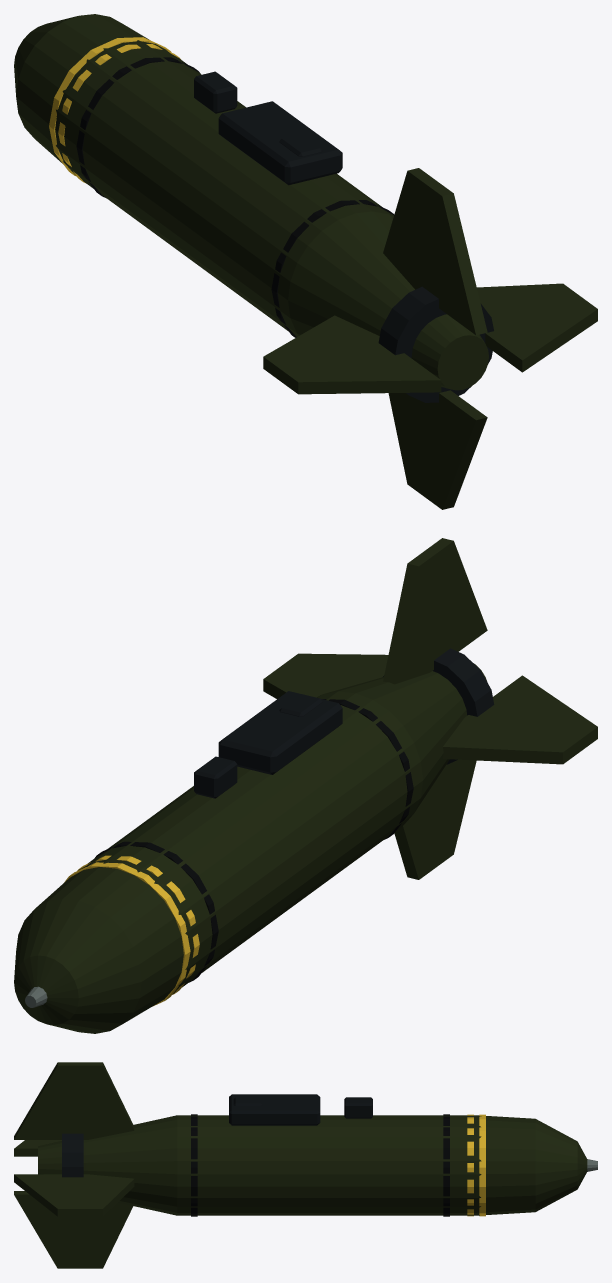
File: BombMedium.obj
3 views of the same model, one above another, from view 1: azimuth 30°, elevation 25°; view 2: azimuth 150°, elevation 25°; view 3: azimuth 270°, elevation 25° (orthographic). The views are drawn at different scales.
Visible parts, largest first — view 1: Bomb_forged_casing, Tail_stabilizer.001, Tail_stabilizer.002, Tail_stabilizer.003, Tail_stabilizer, Mount_lug, Tail_collar, Suspension_lug.001, Identification_band, Identification_band.003, Identification_band.002, Identification_band.001; view 2: Bomb_forged_casing, Tail_stabilizer.001, Tail_stabilizer.002, Mount_lug, Tail_stabilizer.003, Tail_stabilizer, Tail_collar, Suspension_lug.001, Identification_band, Identification_band.003, Identification_band.002, Identification_band.001; view 3: Bomb_forged_casing, Tail_stabilizer.001, Tail_stabilizer.003, Tail_stabilizer, Mount_lug, Tail_collar, Identification_band, Identification_band.002, Identification_band.003, Suspension_lug.001, Identification_band.001, Tail_stabilizer.002.
Boxes of the visible parts, <box> form: Bomb_forged_casing: <box>14,14,488,390</box>; Tail_stabilizer.001: <box>383,168,487,335</box>; Tail_stabilizer.002: <box>263,315,441,394</box>; Tail_stabilizer.003: <box>388,390,487,509</box>; Tail_stabilizer: <box>476,283,597,372</box>; Mount_lug: <box>218,101,342,185</box>; Tail_collar: <box>378,286,493,402</box>; Suspension_lug.001: <box>194,71,237,113</box>; Identification_band: <box>49,37,171,176</box>; Identification_band.003: <box>76,57,200,197</box>; Identification_band.002: <box>271,200,394,337</box>; Identification_band.001: <box>58,44,180,183</box>; Bomb_forged_casing: <box>14,663,487,1033</box>; Tail_stabilizer.001: <box>383,538,487,684</box>; Tail_stabilizer.002: <box>443,675,597,764</box>; Mount_lug: <box>218,691,342,774</box>; Tail_stabilizer.003: <box>394,759,476,879</box>; Tail_stabilizer: <box>263,653,388,698</box>; Tail_collar: <box>383,648,494,764</box>; Suspension_lug.001: <box>194,756,237,798</box>; Identification_band: <box>64,862,190,1006</box>; Identification_band.003: <box>94,841,218,982</box>; Identification_band.002: <box>322,699,413,839</box>; Identification_band.001: <box>77,855,199,994</box>; Bomb_forged_casing: <box>38,1115,587,1215</box>; Tail_stabilizer.001: <box>14,1062,134,1139</box>; Tail_stabilizer.003: <box>14,1191,133,1268</box>; Tail_stabilizer: <box>14,1174,134,1216</box>; Mount_lug: <box>229,1094,320,1125</box>; Tail_collar: <box>62,1133,83,1177</box>; Identification_band: <box>479,1114,485,1216</box>; Identification_band.002: <box>191,1114,197,1216</box>; Identification_band.003: <box>443,1114,449,1216</box>; Suspension_lug.001: <box>344,1097,372,1118</box>; Identification_band.001: <box>467,1114,473,1216</box>; Tail_stabilizer.002: <box>14,1140,61,1156</box>.
Bounding box in the file's own units: 0.932 × 0.932 × 2.43.
